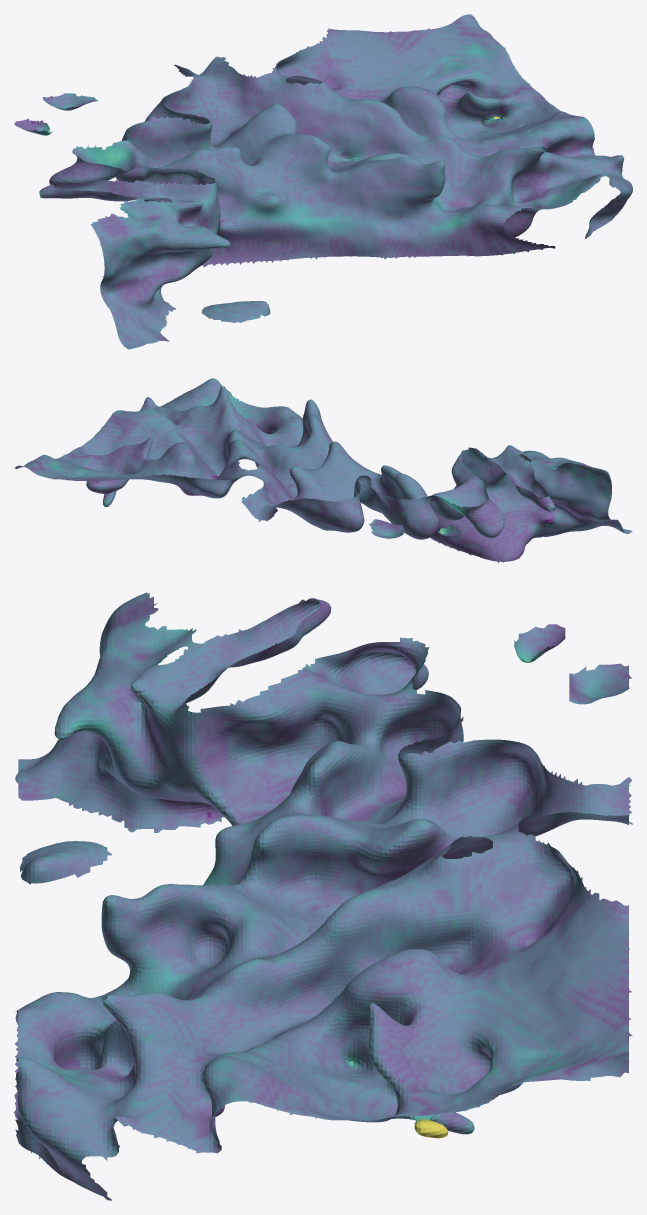
The model's file is crop1151_gap.glb.
3 views of the same model, one above another, from view 1: azimuth 30°, elevation 25°; view 2: azimuth 150°, elevation 25°; view 3: azimuth 270°, elevation 25° (orthographic). The views are drawn at different scales.
Parts seen in each view (by area): view 1: world; view 2: world; view 3: world.
Boxes of the visible parts, left/top/right/bottom form: world: left=14, top=14, right=632, bottom=349; world: left=14, top=378, right=632, bottom=563; world: left=14, top=592, right=632, bottom=1200.
Bounding box in the file's own units: 3931 × 736 × 2336.
